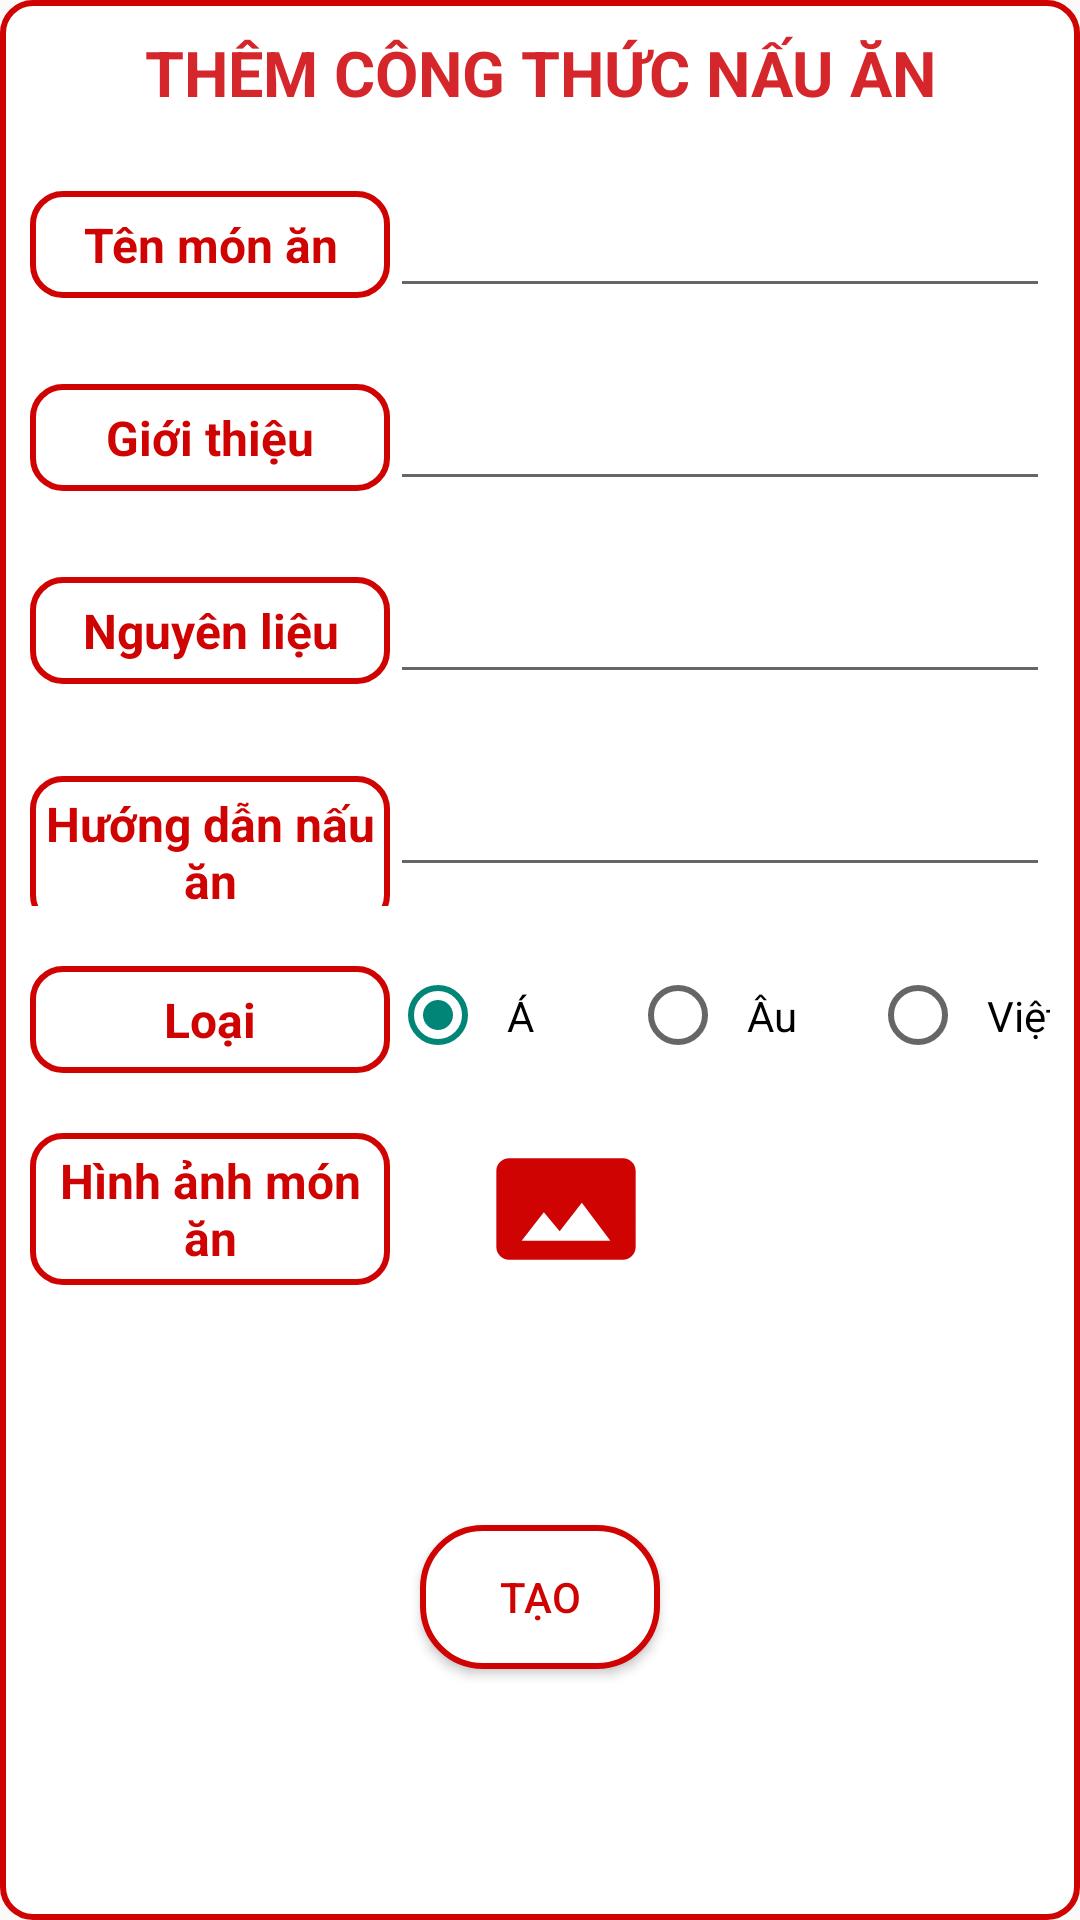

Named icons in this screenshot (1080px x 1920px) and their bounding boxes, (x1, y1, x2, y2):
panorama: (496, 1158, 636, 1260)
